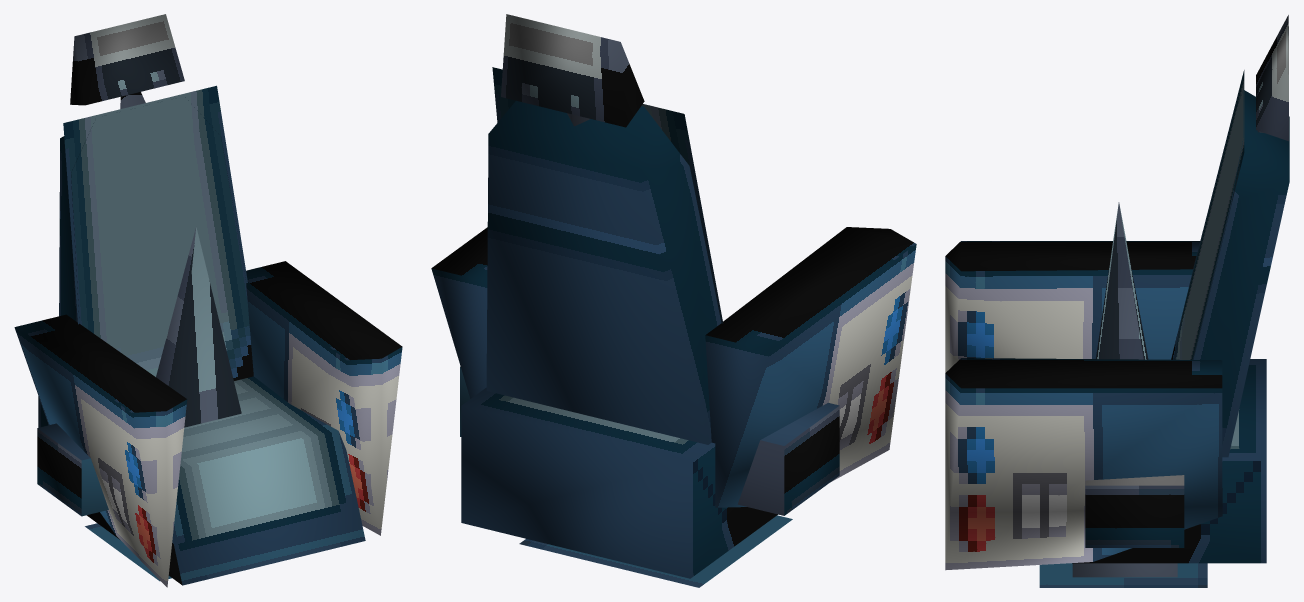
3 renders of one model, left to right at view 1: azimuth 30°, elevation 25°; view 2: azimuth 150°, elevation 25°; view 3: azimuth 270°, elevation 25°, orthographic. The views are drawn at different scales.
Parts seen in each view (by area): view 1: 3301IMIG07_05; view 2: 3301IMIG07_05; view 3: 3301IMIG07_05.
Part boxes in pixels (left/top/right/bottom): 3301IMIG07_05: left=14, top=14, right=402, bottom=587; 3301IMIG07_05: left=431, top=14, right=916, bottom=587; 3301IMIG07_05: left=945, top=15, right=1289, bottom=587.
Bounding box in the file's own units: 0.9536 × 1.54 × 0.9402.
3 materials, 3 textured.
